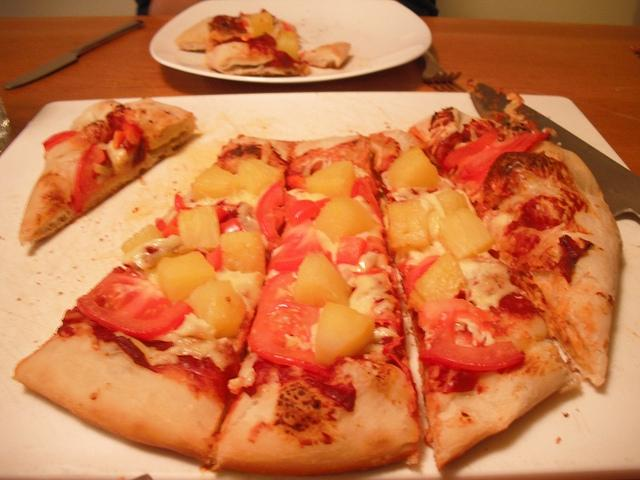pineapple: (315, 301, 376, 364), (185, 279, 247, 339), (406, 252, 468, 308), (312, 196, 382, 244), (156, 250, 220, 302), (293, 252, 352, 308), (439, 207, 493, 260), (386, 145, 441, 191), (386, 199, 431, 248), (220, 230, 267, 275), (304, 161, 356, 200), (178, 206, 220, 254), (192, 164, 238, 203), (238, 158, 284, 197), (121, 223, 164, 254), (436, 190, 470, 216), (276, 29, 299, 61), (249, 12, 275, 36)
tomato: (248, 270, 332, 377), (77, 268, 192, 340), (418, 298, 524, 371), (455, 131, 549, 184), (266, 236, 334, 273), (442, 128, 498, 168), (72, 144, 104, 213), (350, 175, 386, 227), (283, 191, 331, 226), (406, 254, 440, 300), (336, 236, 368, 266), (43, 132, 77, 152), (123, 122, 144, 146), (205, 244, 222, 271), (220, 218, 246, 234), (162, 224, 180, 238), (168, 212, 180, 228)
